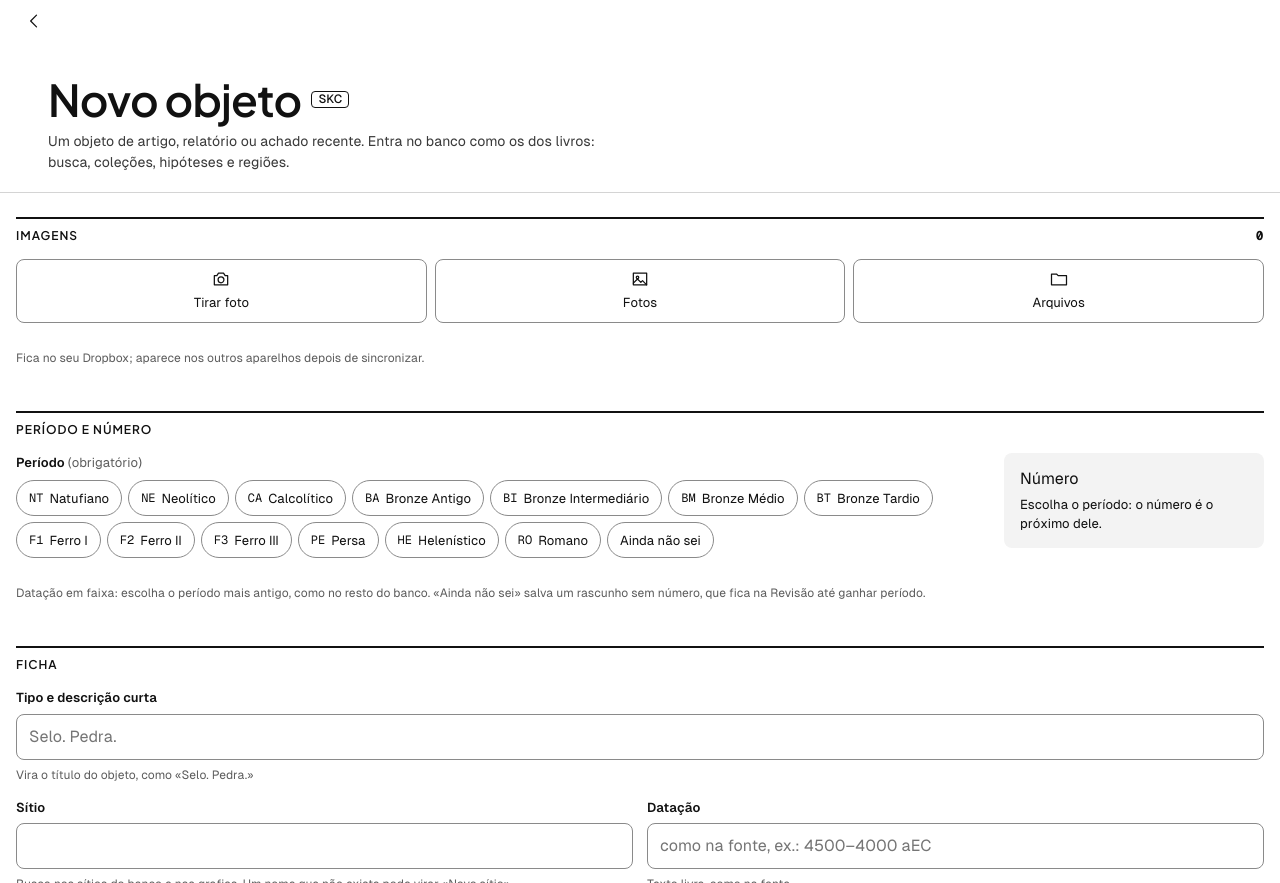
NovoObjeto › "Ainda não sei" salva um rascunho sem número
Step 1. Type "Selo sem data" into the field labelled "Tipo e descrição curta" → (640, 737), box [16,714,1264,760]
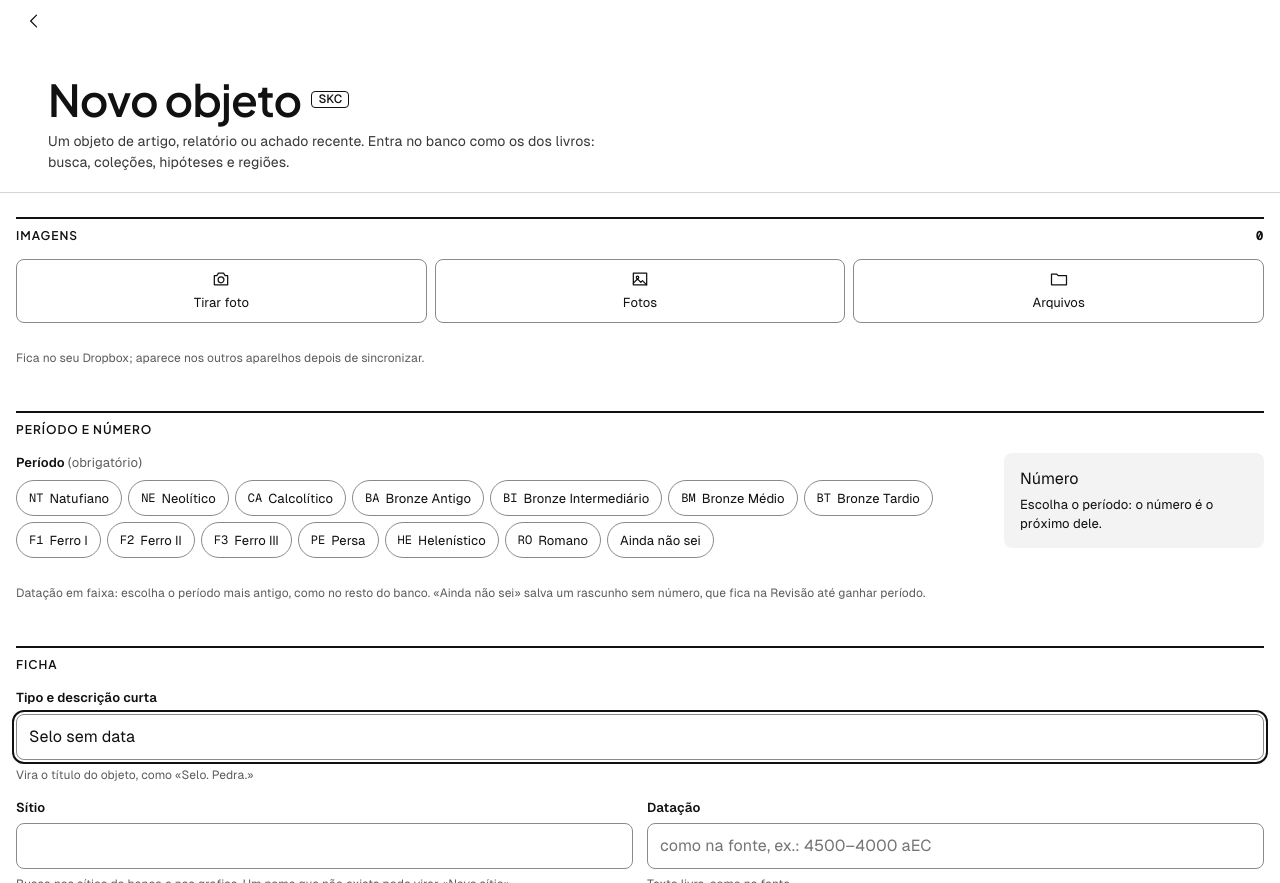
Step 2. Click the radio button labelled "Ainda não sei" → (660, 540), box [607,522,714,558]
(page scrolled)
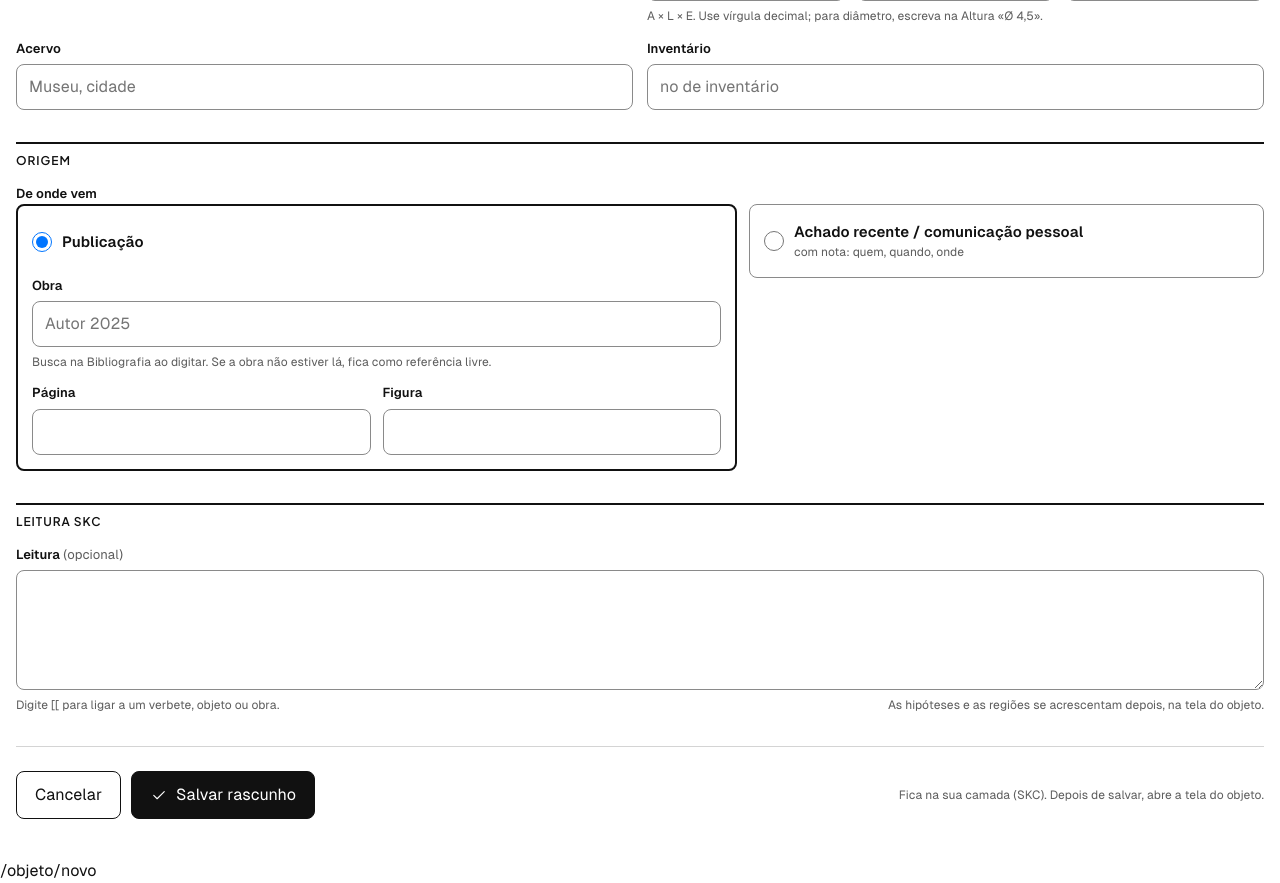
Step 3. Click the button "Salvar rascunho" → (223, 796), box [131,772,315,820]
(page scrolled)
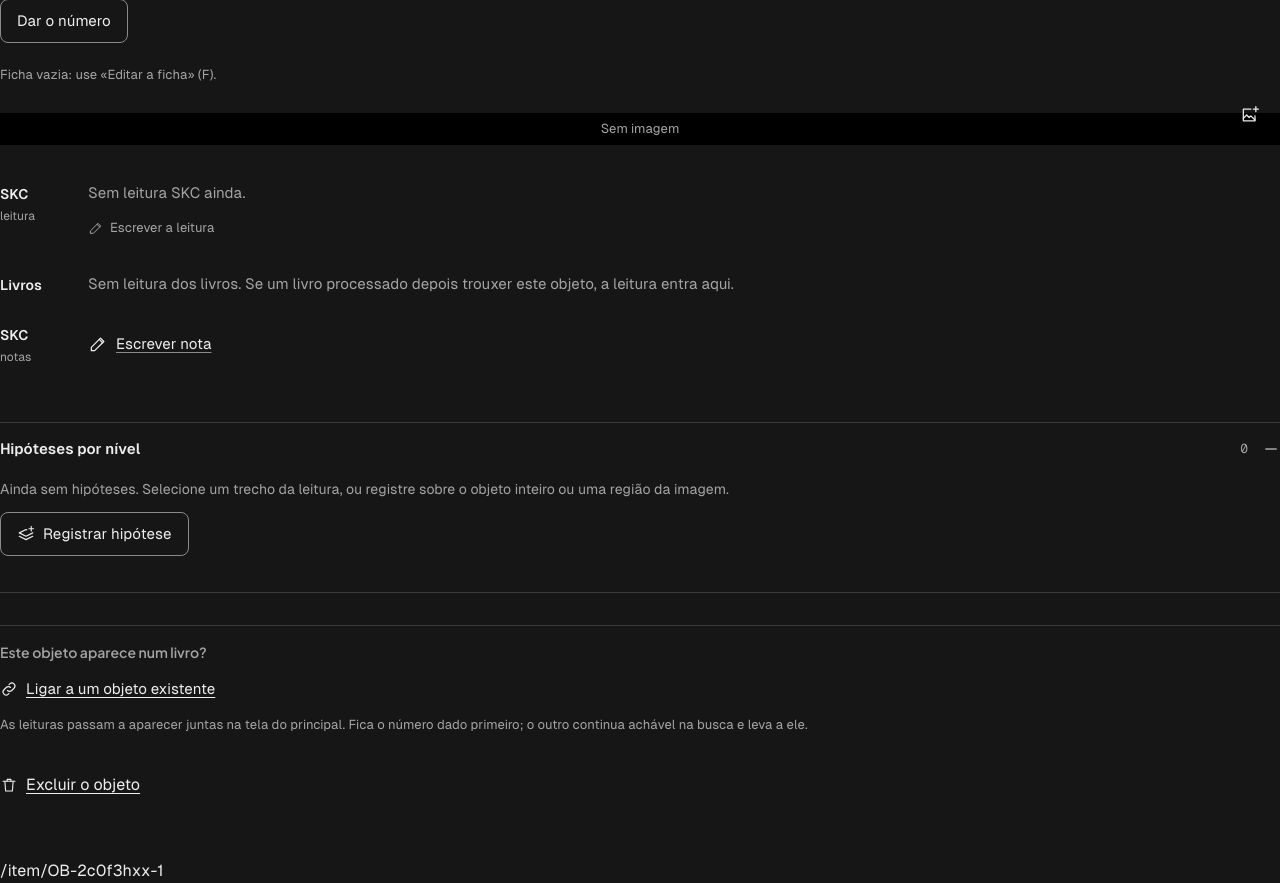
Expected: the text with test id "local" shows "/item/OB-", [0,861,163,880]
